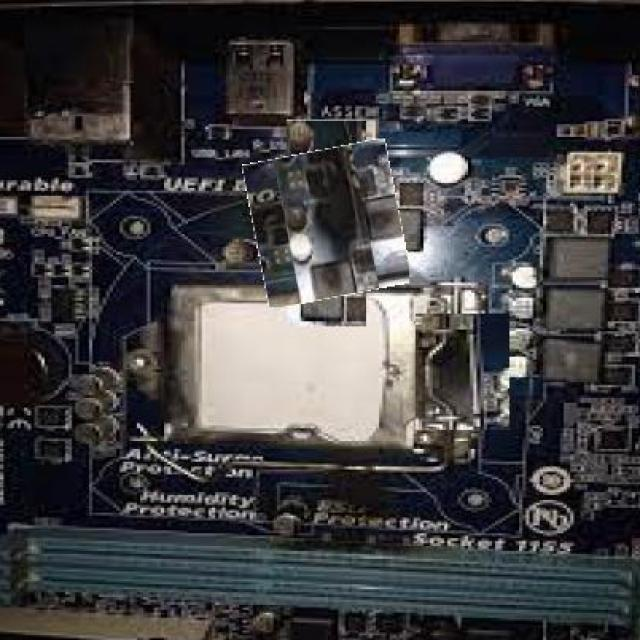Burn: (248, 146, 406, 304), (416, 314, 514, 432)
